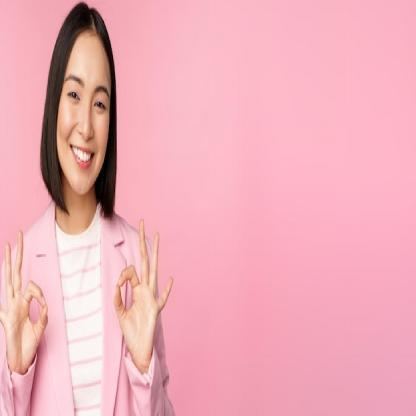ok: (112, 213, 176, 373), (0, 224, 51, 378)
